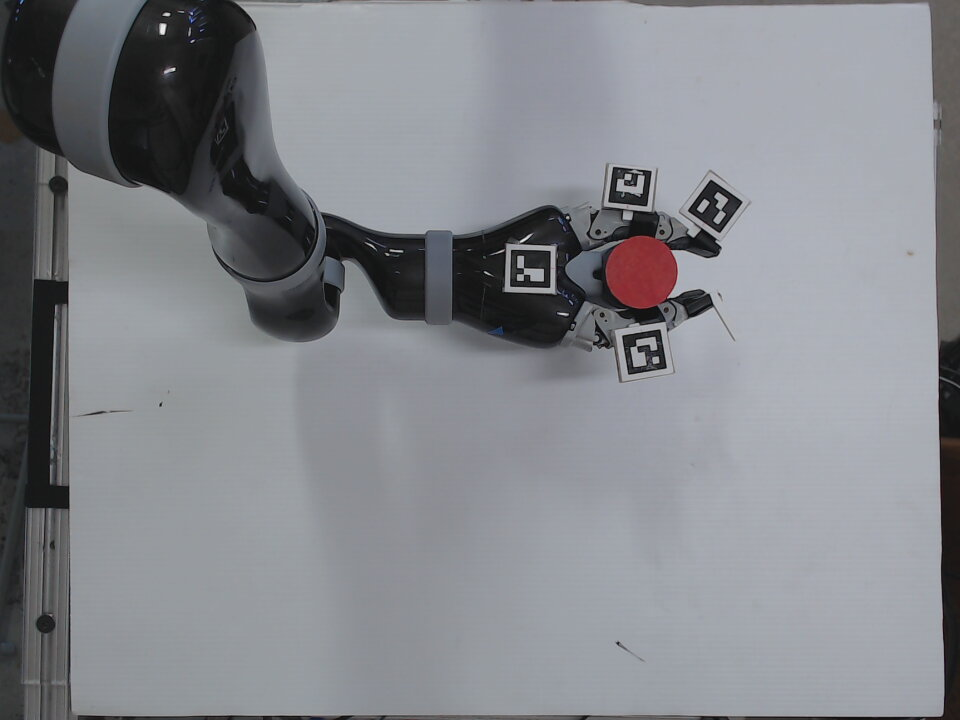cylinder: (596, 233, 682, 313)
